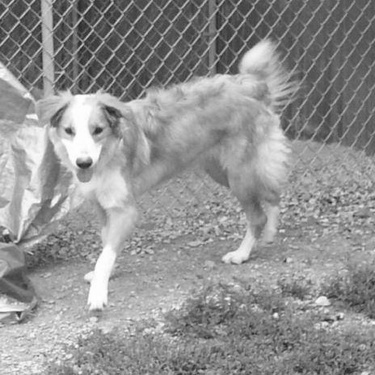dog: (36, 33, 306, 311)
